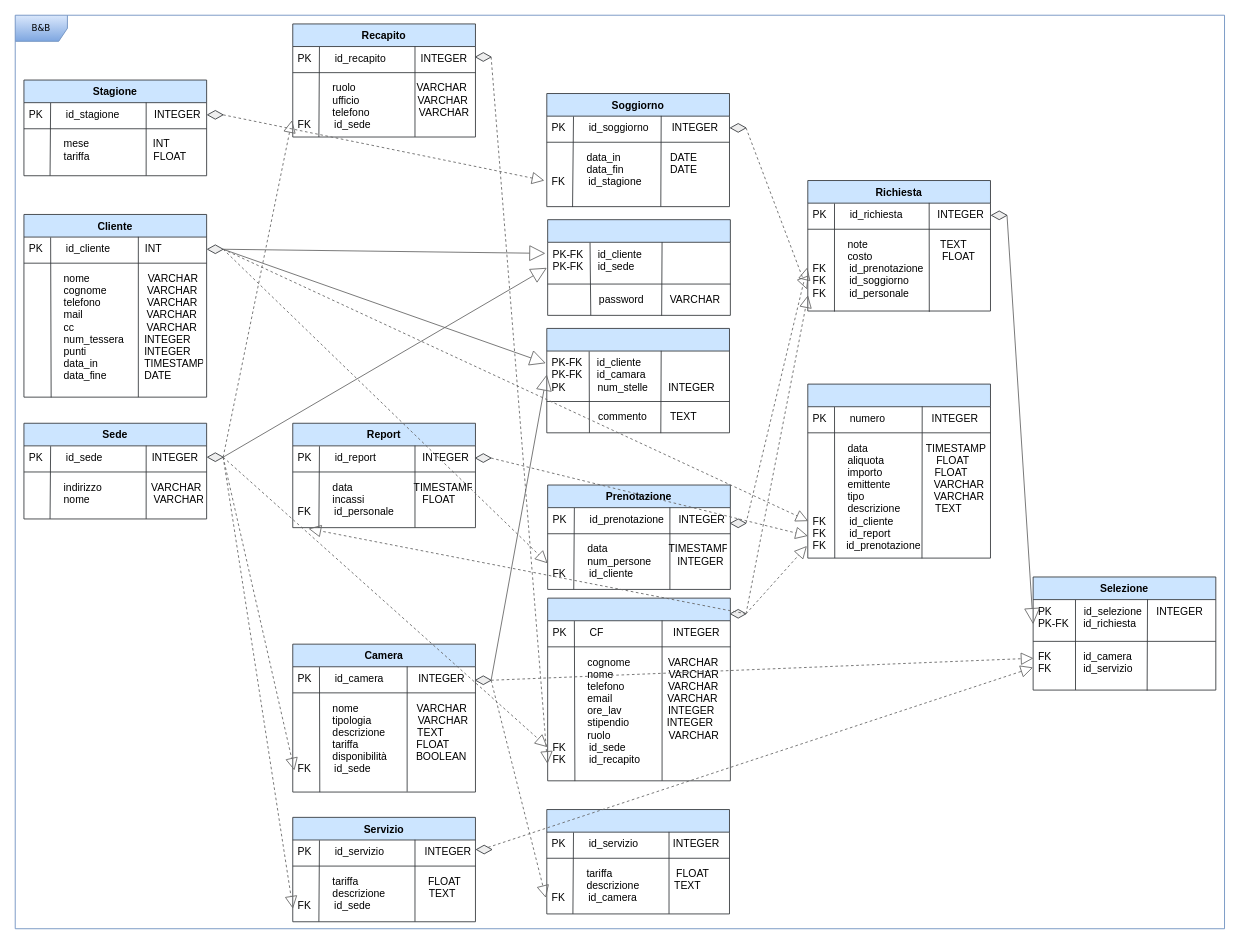
This 1240x944 diagram has some shape labels left out. The box of each missing label's shape, as (x1, y1, x2, y2) in pixels:
Fattura: (807, 383, 990, 558)
Personale: (547, 597, 730, 781)
Recensione: (546, 328, 729, 433)
Registrazione: (547, 219, 730, 315)
ServizioPrivato: (546, 809, 729, 914)
